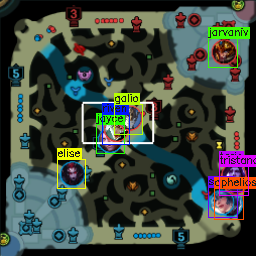aphelios: (219, 193, 241, 215)
elise: (60, 161, 84, 186)
galio: (117, 105, 142, 129)
jarvaniv: (211, 39, 236, 63)
jayce: (97, 130, 122, 153)
riven: (104, 116, 127, 139)
sona: (210, 190, 233, 215)
taric: (220, 162, 244, 186)
tristana: (224, 169, 247, 194)
